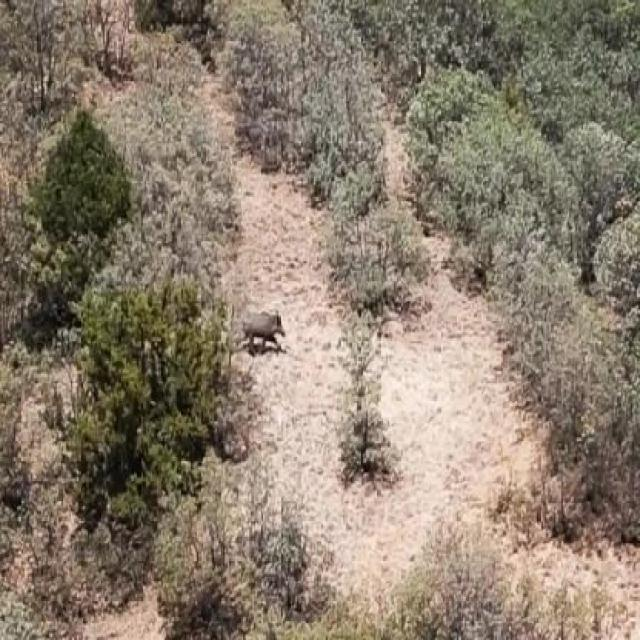pig: (240, 291, 295, 360)
